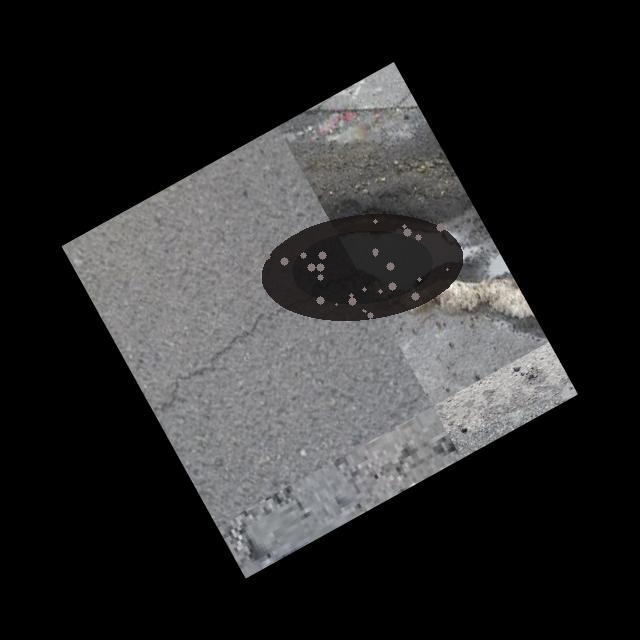pothole: (256, 210, 468, 324)
